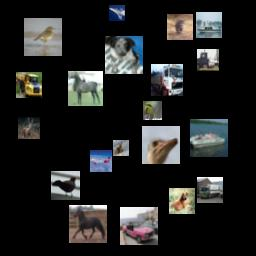airplane: (90, 150, 112, 172), (109, 5, 125, 21)
automobile: (120, 207, 158, 245)
bird: (142, 126, 180, 164), (24, 18, 62, 56), (51, 171, 80, 200), (143, 101, 162, 120)
cat: (167, 14, 193, 40)
deer: (18, 117, 40, 139), (113, 140, 129, 156)
dog: (105, 36, 143, 74), (169, 188, 195, 214)
ship: (190, 119, 228, 157), (196, 12, 222, 38)
truck: (151, 64, 183, 96), (16, 72, 42, 98), (197, 177, 223, 203), (197, 49, 219, 71)
